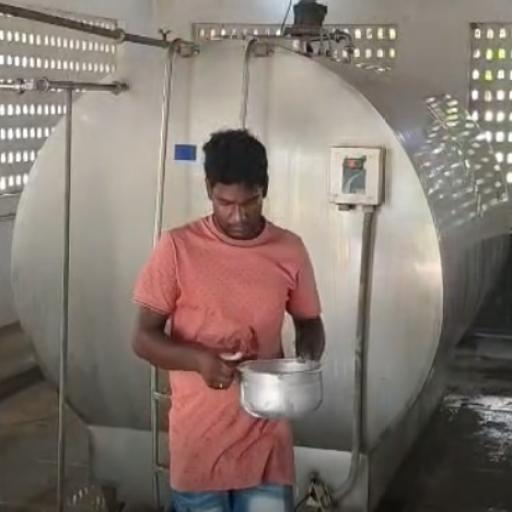silo: (11, 31, 510, 511)
vessel: (235, 356, 325, 420)
